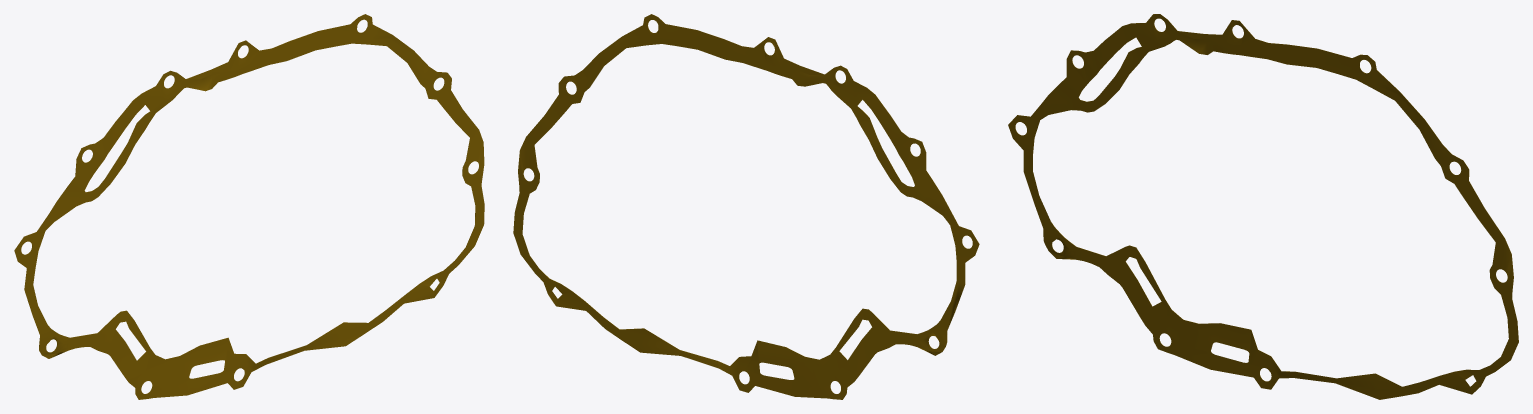
3 views of the same model, side by side, from view 1: azimuth 30°, elevation 25°; view 2: azimuth 150°, elevation 25°; view 3: azimuth 330°, elevation 25° (orthographic). The views are drawn at different scales.
Visible parts, largest first — view 1: pCube3_003; view 2: pCube3_003; view 3: pCube3_003.
Part boxes in pixels (<box>): pCube3_003: <box>14,14,484,399</box>; pCube3_003: <box>513,14,979,399</box>; pCube3_003: <box>1008,14,1518,399</box>.
Bounding box in the file's own units: 82.87 × 59.89 × 5.28.
